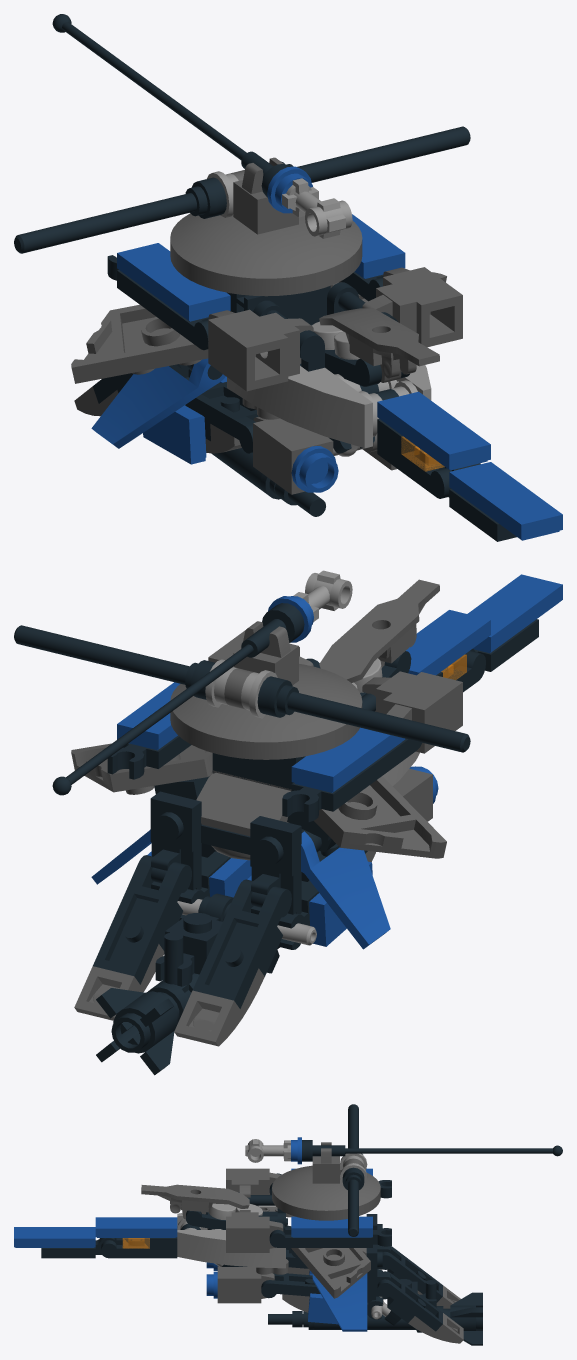
Rendered from mvf-02r.dae.
3 views of the same model, one above another, from view 1: azimuth 30°, elevation 25°; view 2: azimuth 150°, elevation 25°; view 3: azimuth 270°, elevation 25° (orthographic). The views are drawn at different scales.
Size of the model in its own units: 216 by 404 by 162.
